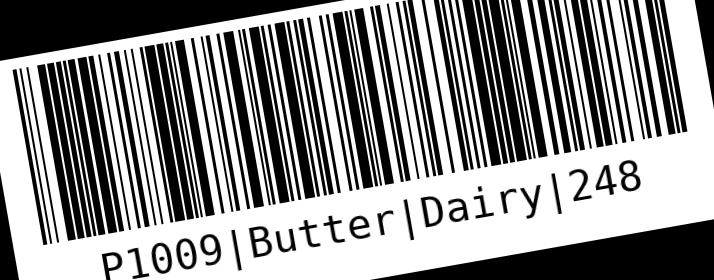milk: (5, 1, 712, 279)
